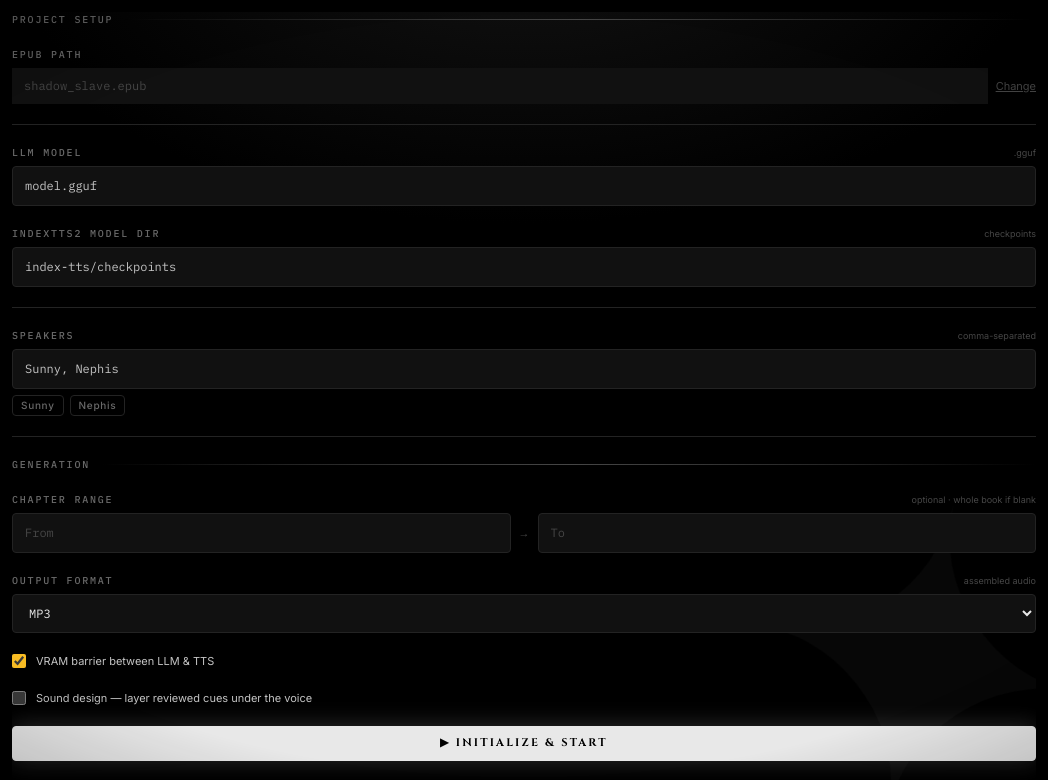
ProjectSetup sound-design controls › reveals the three category toggles only when sound design is enabled
Expected: the checkbox labelled "ambience beds" is not shown
Click the checkbox labelled "Sound design — layer reviewed cues under the voice": [19, 698] box [12,691,26,705]
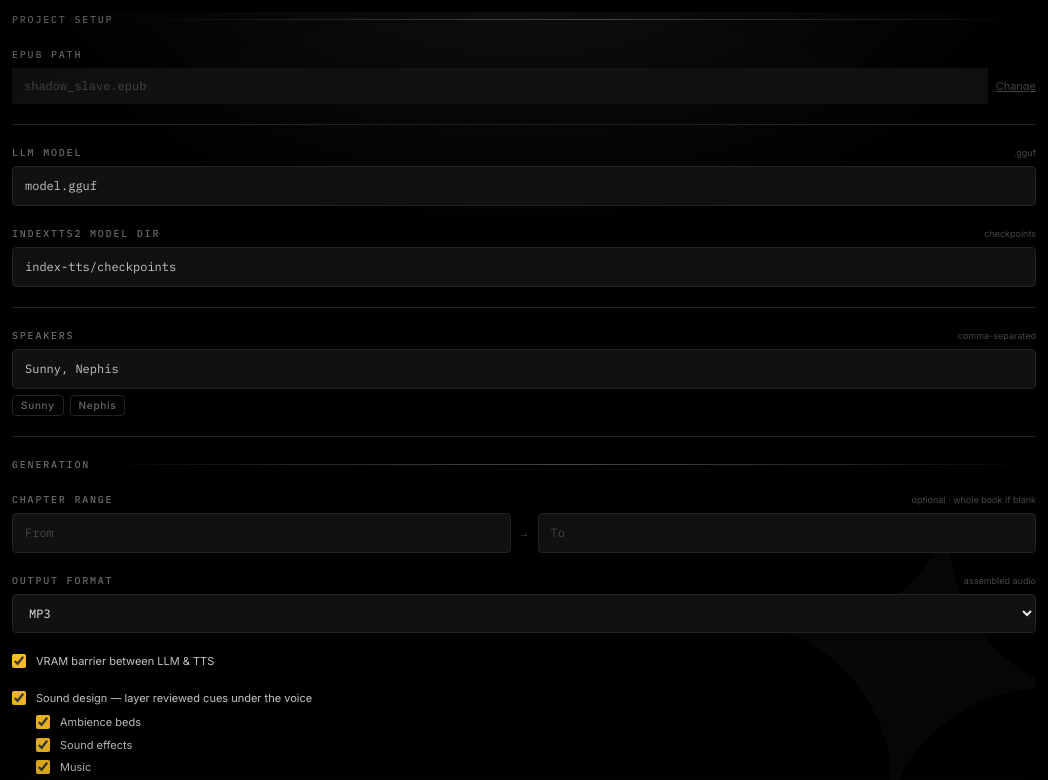
Now the checkbox labelled "Ambience beds" is checked, box [36,715,50,729]
Now the checkbox labelled "Sound effects" is checked, box [36,738,50,752]
Now the checkbox labelled "Music" is checked, box [36,760,50,774]
